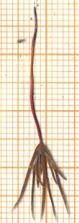flower: (9, 137, 73, 223)
root: (25, 6, 44, 41)
stem: (28, 39, 44, 139)
